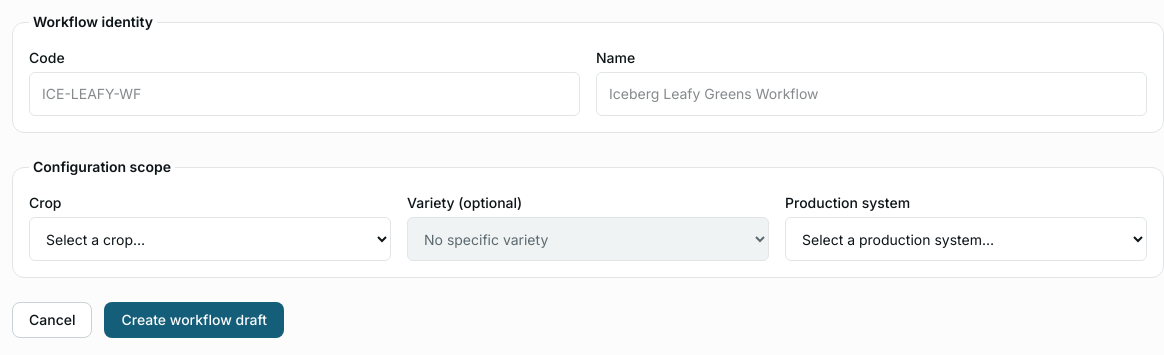
Test: WorkflowForm › scopes the Variety dropdown to the selected Crop, and clears it when the Crop changes
Expected: the dropdown labelled "Variety (optional)" is disabled, [407,217,769,261]
Select "Iceberg Lettuce (ICE)" in the dropdown labelled "Crop" at (210, 239), box [29,217,391,261]
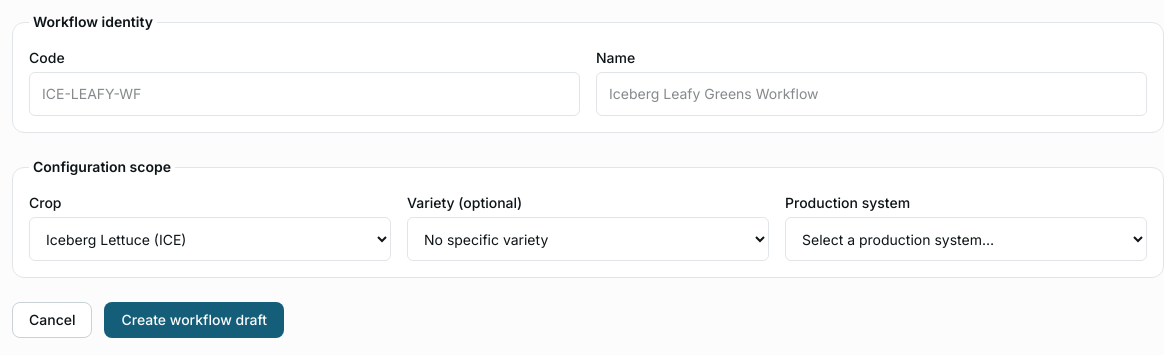
Result: the dropdown labelled "Variety (optional)" is enabled at [407,217,769,261]
